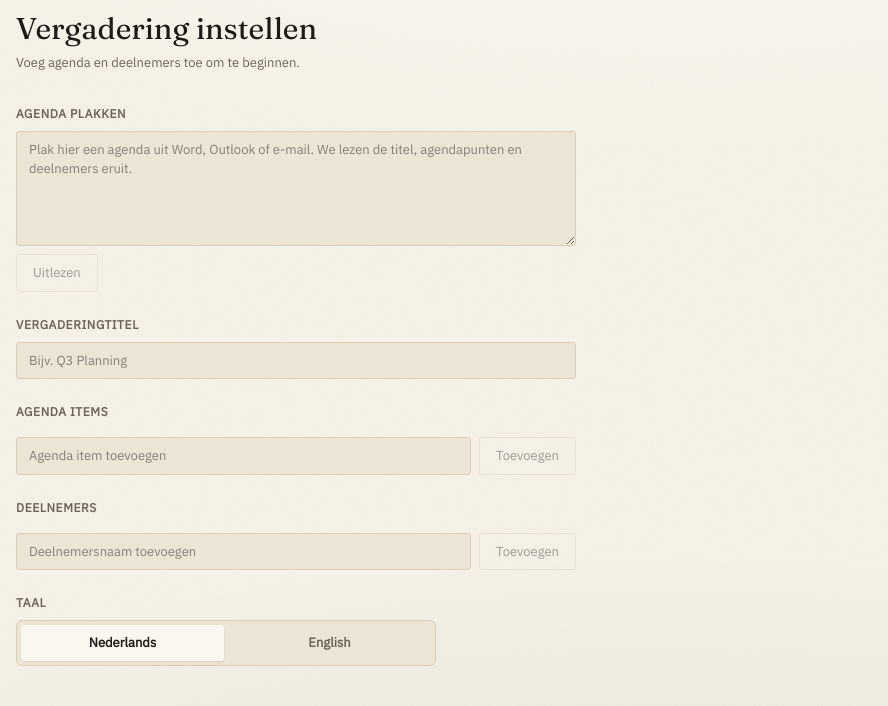
Test case: DraftScreen › keeps manual entry working when inference returns an empty context
Type "Onleesbare brij" into the text box named "agenda plakken" at coordinates (296, 188), box x1=16 y1=130 x2=576 y2=246
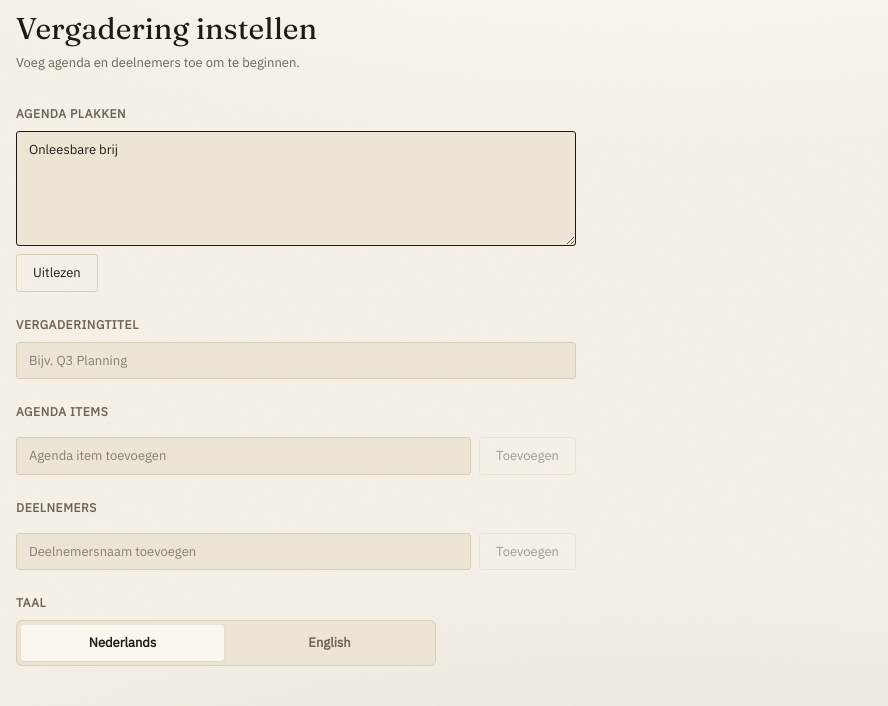
Click the button "Uitlezen" at coordinates (57, 273), box x1=16 y1=254 x2=98 y2=292
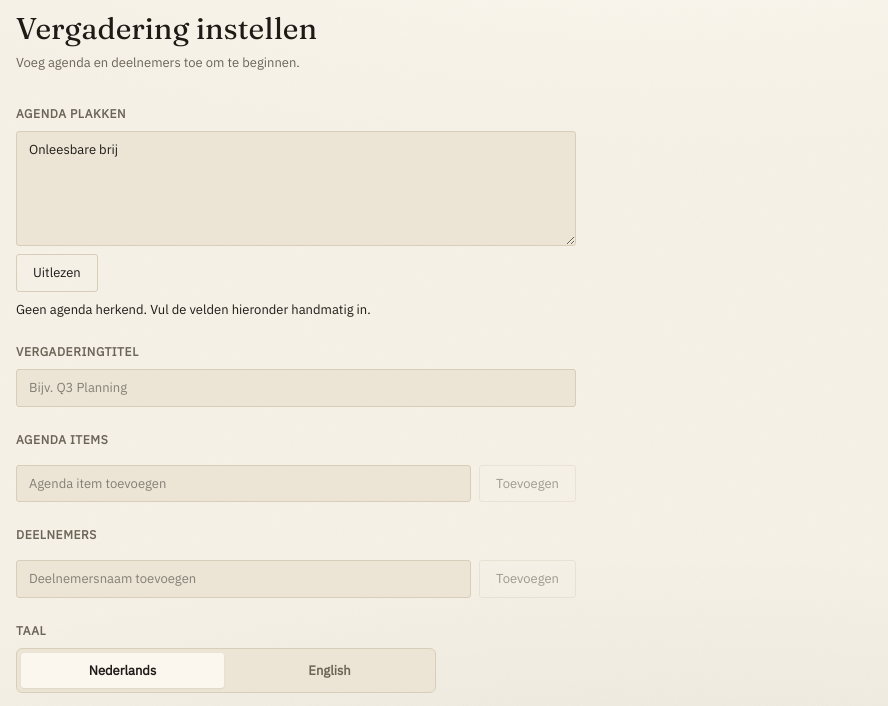
Expected: the field labelled "Vergaderingtitel" is empty, x1=16 y1=369 x2=576 y2=406
Now the text "Geen agenda herkend. Vul de velden hieronder handmatig in." is shown, box x1=16 y1=300 x2=371 y2=318
